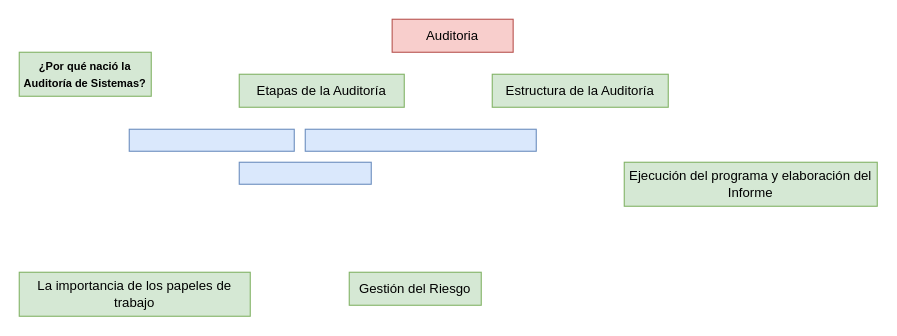
Some shapes in this 897 by 336 pixel diagram are drawn without their labels. The centre of each missing label's shape, as x and y in pixels:
"COMUNICACIÓN DE RESULTADOS" belongs at point (420, 139).
"EJECUCIÓN O EXAMEN" belongs at point (211, 139).
"PLANIFICACIÓN" belongs at point (304, 172).
